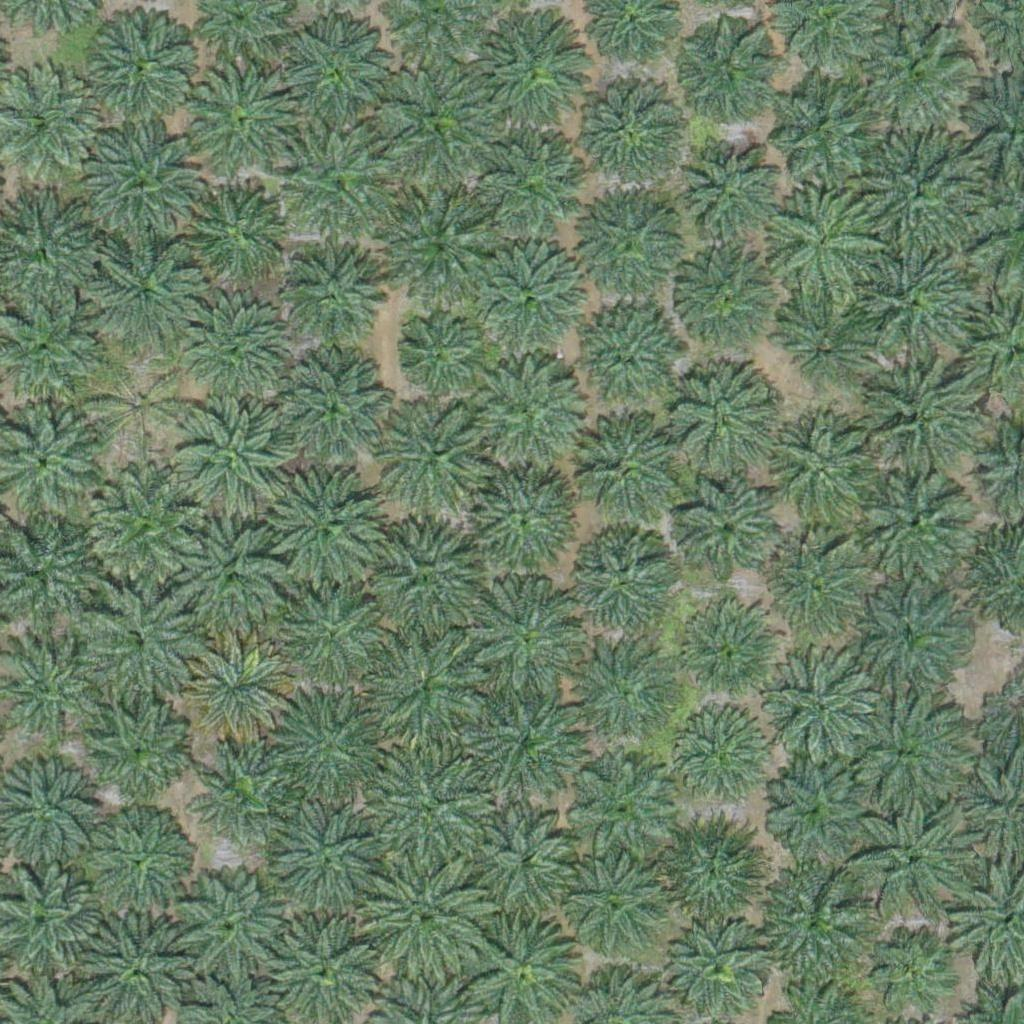Kelapa_Sawit: (856, 133, 981, 259), (464, 130, 589, 256), (378, 187, 503, 313), (840, 693, 965, 819), (850, 789, 975, 915), (362, 628, 487, 754), (368, 747, 493, 873), (850, 354, 975, 479), (362, 850, 487, 975), (471, 13, 584, 127), (473, 465, 586, 579), (379, 399, 492, 513), (465, 580, 578, 694), (183, 62, 296, 176), (278, 352, 391, 466), (85, 8, 198, 121), (858, 19, 971, 132), (767, 419, 880, 532), (670, 248, 783, 361), (665, 370, 778, 483), (572, 78, 685, 191), (573, 191, 686, 304), (853, 574, 966, 687), (762, 650, 875, 763), (556, 846, 669, 959), (470, 805, 583, 918), (472, 686, 585, 799), (365, 524, 478, 637), (266, 469, 379, 582), (87, 470, 200, 583), (281, 122, 394, 235), (181, 635, 294, 748), (178, 868, 291, 981), (83, 588, 196, 701), (79, 693, 192, 806), (751, 860, 863, 974), (656, 811, 768, 925), (562, 747, 674, 861), (87, 123, 199, 237), (182, 300, 294, 414), (283, 13, 395, 126), (860, 244, 972, 357), (863, 470, 975, 583), (770, 78, 882, 191), (571, 309, 683, 422), (568, 417, 680, 530), (472, 245, 584, 358), (471, 356, 583, 469), (380, 67, 492, 180), (278, 579, 390, 692), (268, 688, 380, 801), (268, 799, 380, 912), (89, 235, 201, 348), (174, 519, 286, 632), (175, 397, 287, 510), (90, 357, 190, 458), (773, 195, 873, 296), (779, 289, 879, 390), (767, 536, 867, 637), (673, 25, 773, 126), (684, 142, 784, 243), (675, 476, 775, 577), (89, 813, 189, 914), (668, 918, 768, 1018), (570, 530, 670, 630), (770, 758, 870, 858), (675, 602, 775, 702), (671, 709, 771, 809), (576, 641, 676, 741), (185, 184, 285, 284), (284, 242, 384, 342), (199, 750, 286, 839), (872, 927, 947, 1003), (398, 318, 473, 394)
